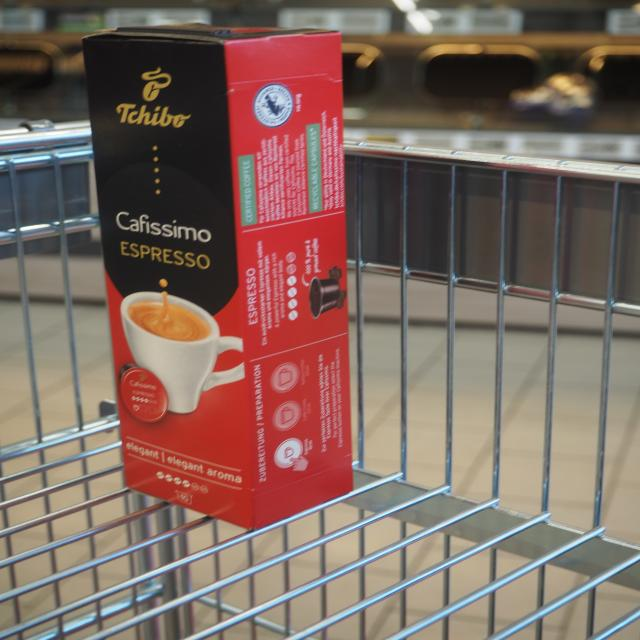Simo Es Elegant: (74, 24, 260, 542)
